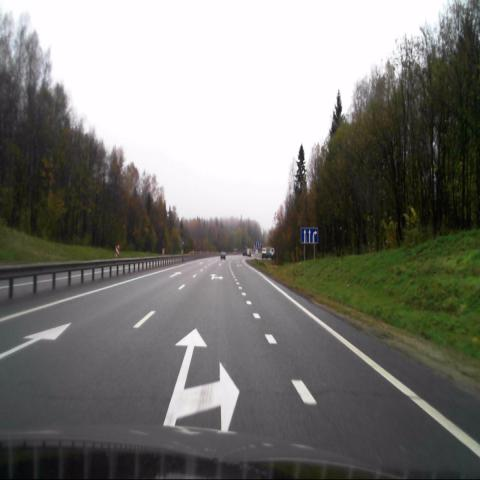5_15_1: (301, 228, 317, 244)
